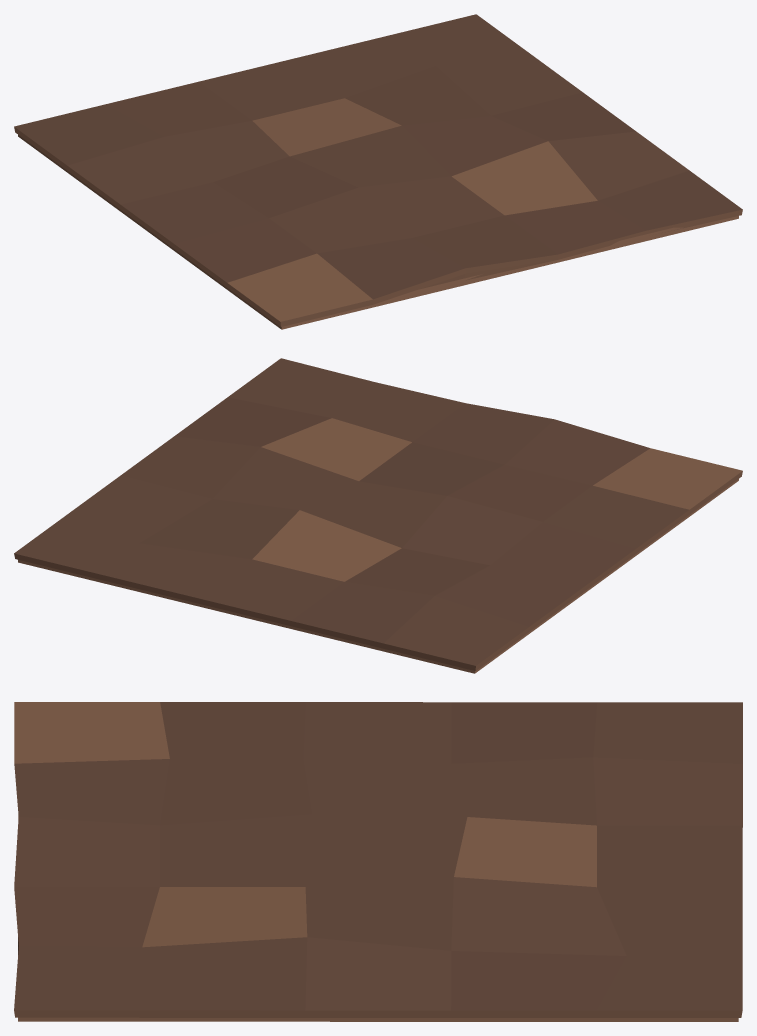
Rendered from Box_cap.gltf.
3 views of the same model, one above another, from view 1: azimuth 30°, elevation 25°; view 2: azimuth 150°, elevation 25°; view 3: azimuth 270°, elevation 25° (orthographic). The views are drawn at different scales.
Parts seen in each view (by area): view 1: drawer box; view 2: drawer box; view 3: drawer box.
Boxes of the visible parts, x1,y1,x2,y2 form: drawer box: [14, 14, 742, 329]; drawer box: [14, 358, 742, 673]; drawer box: [14, 702, 742, 1021].
Size of the model in its own units: 0.3502 by 0.0149 by 0.3502.
Materials: 1 (1 with a texture image).
